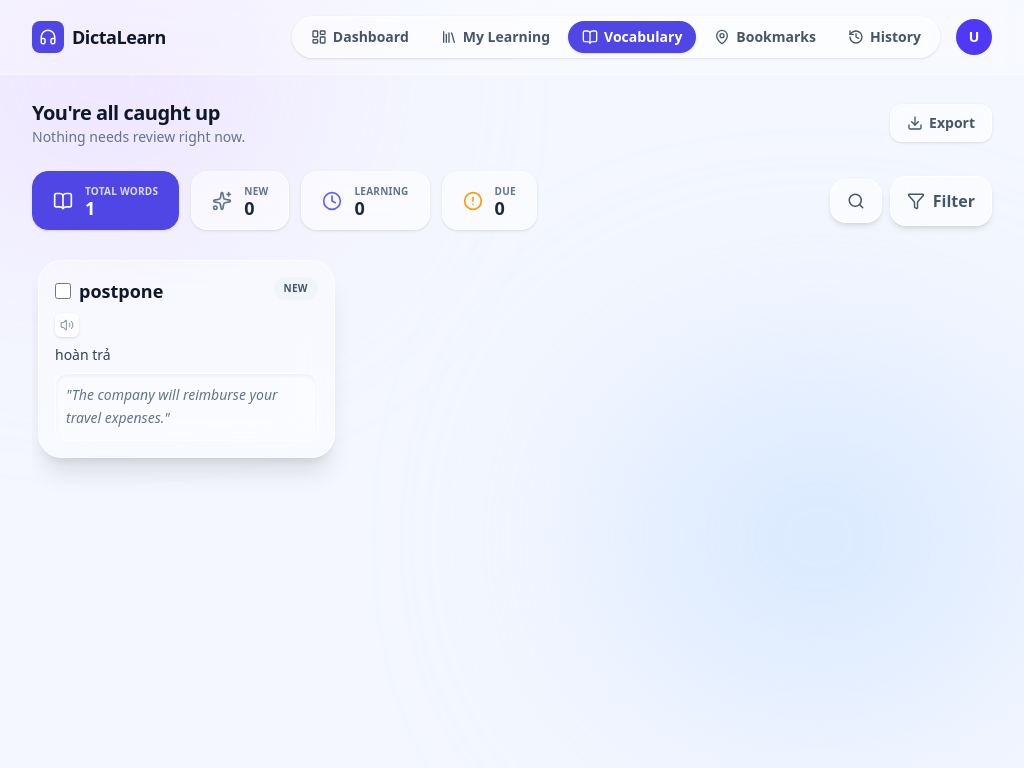
VocabularyPage › search collapse › collapses on Escape while preserving the query, not resetting it
Check: the number of elements with test id "vocab-card" is 1, box [38,260,335,458]
Click the button named "Search" at (856, 200), box [830,178,882,222]
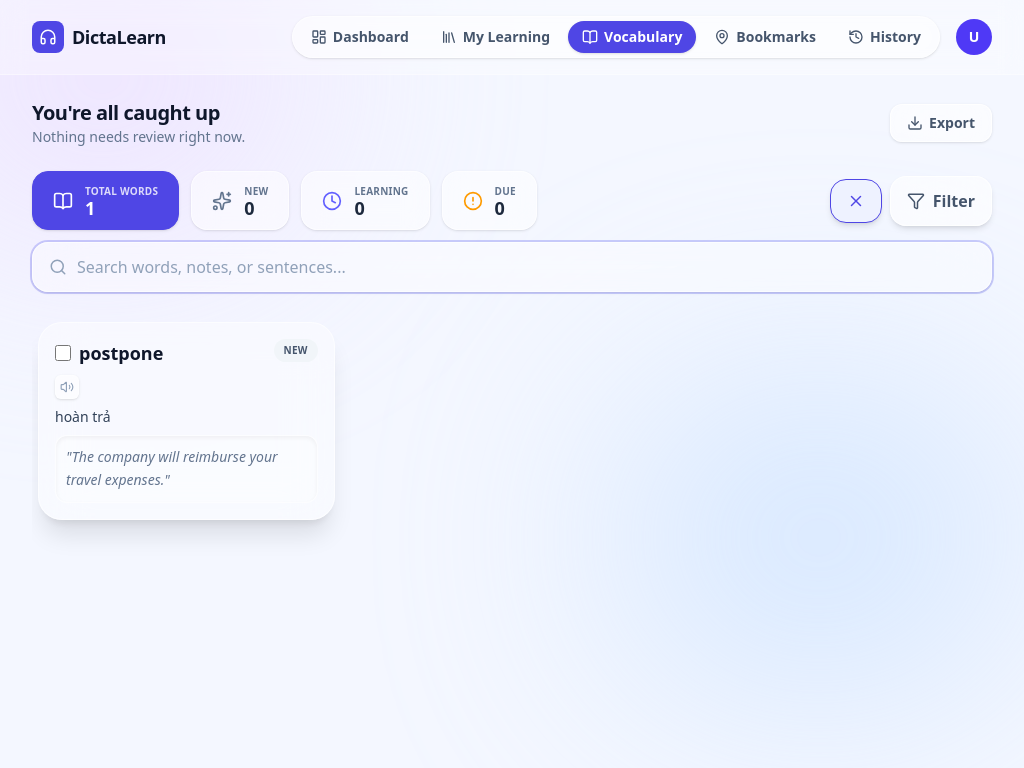
Type "zzz" into the field with placeholder "Search words, notes, or sentences..." at (512, 267), box [33,243,991,291]
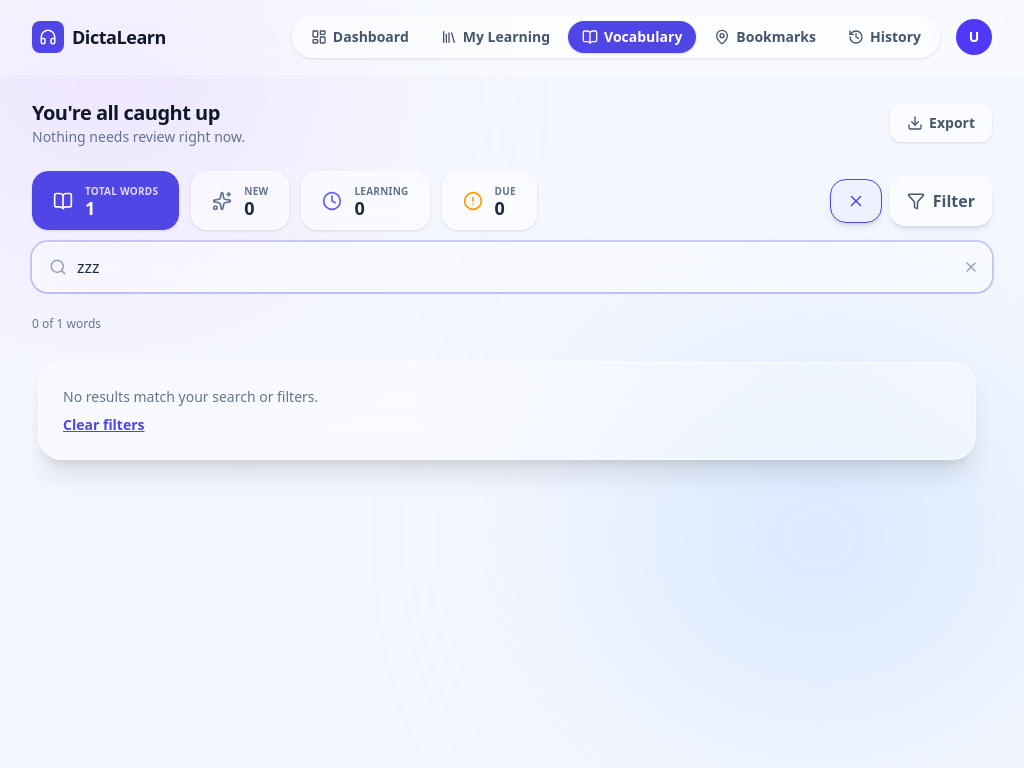
Press Escape
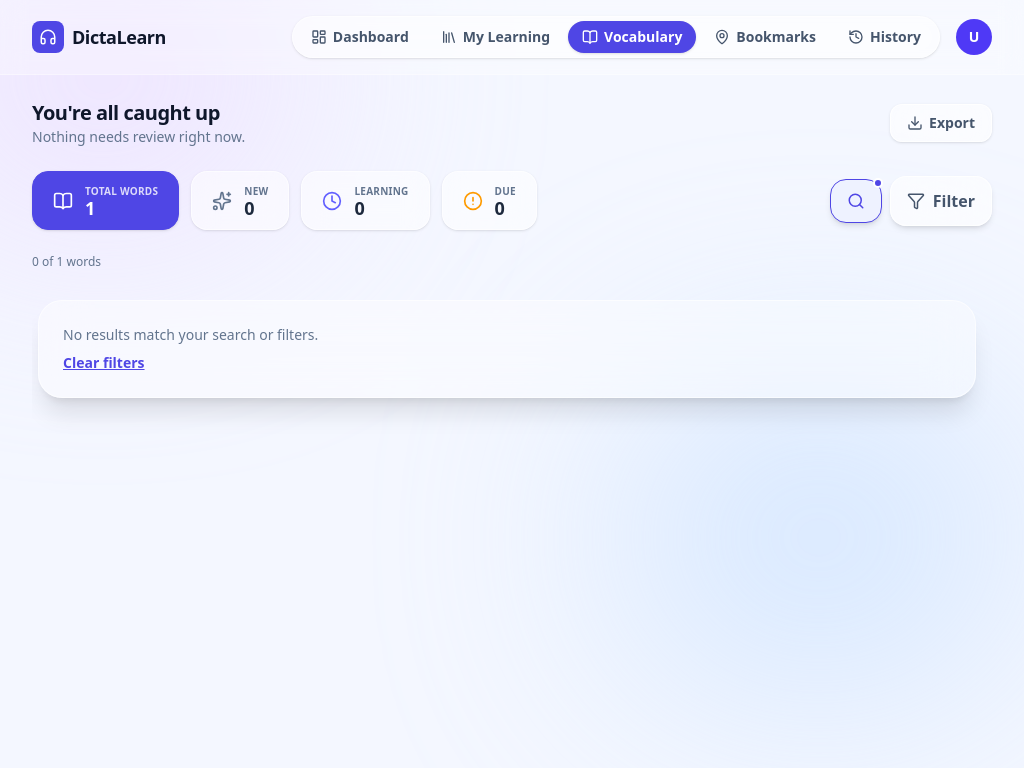
Check: the field with placeholder "Search words, notes, or sentences..." is not shown
Check: the element with test id "search-active-indicator" is shown, box [873,178,883,188]
